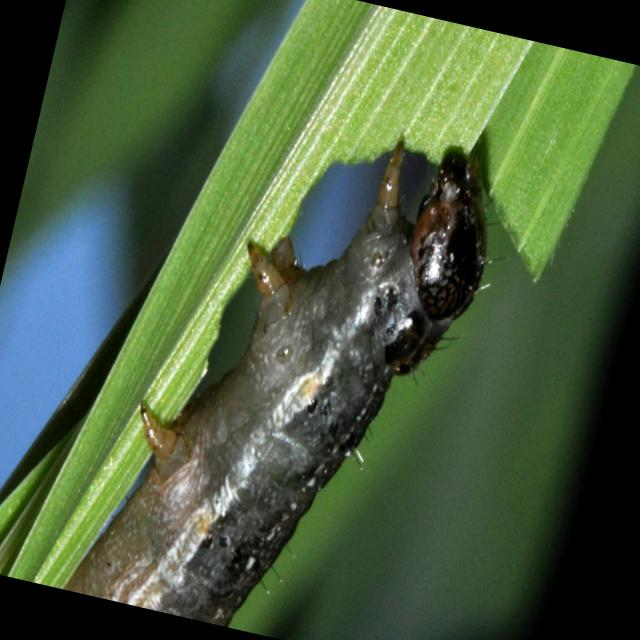armyworm: (59, 59, 533, 640)
